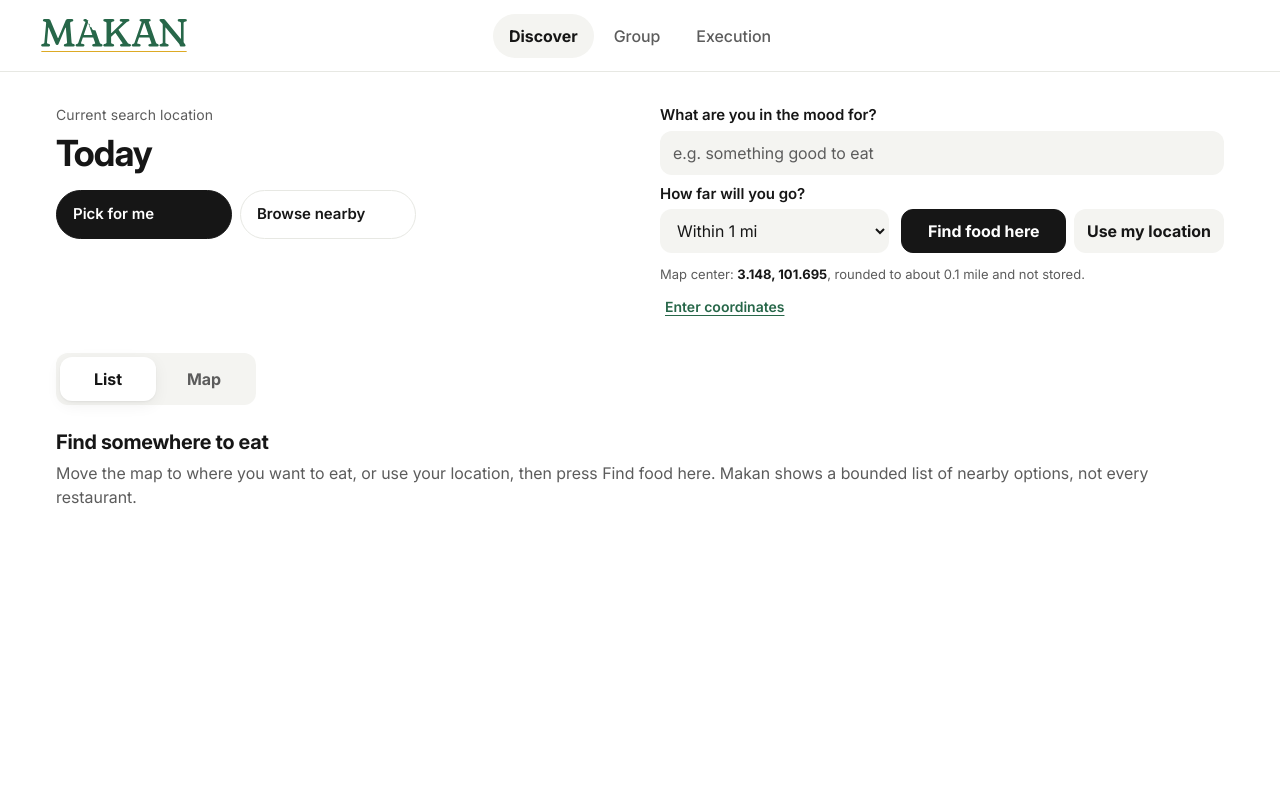
Test case: Discover › marks a changed radius as not yet applied and applies it on the next search
Type "thai please" into the field labelled "What are you in the mood for?".
click(942, 152); type("thai please")  # box [660,130,1224,174]
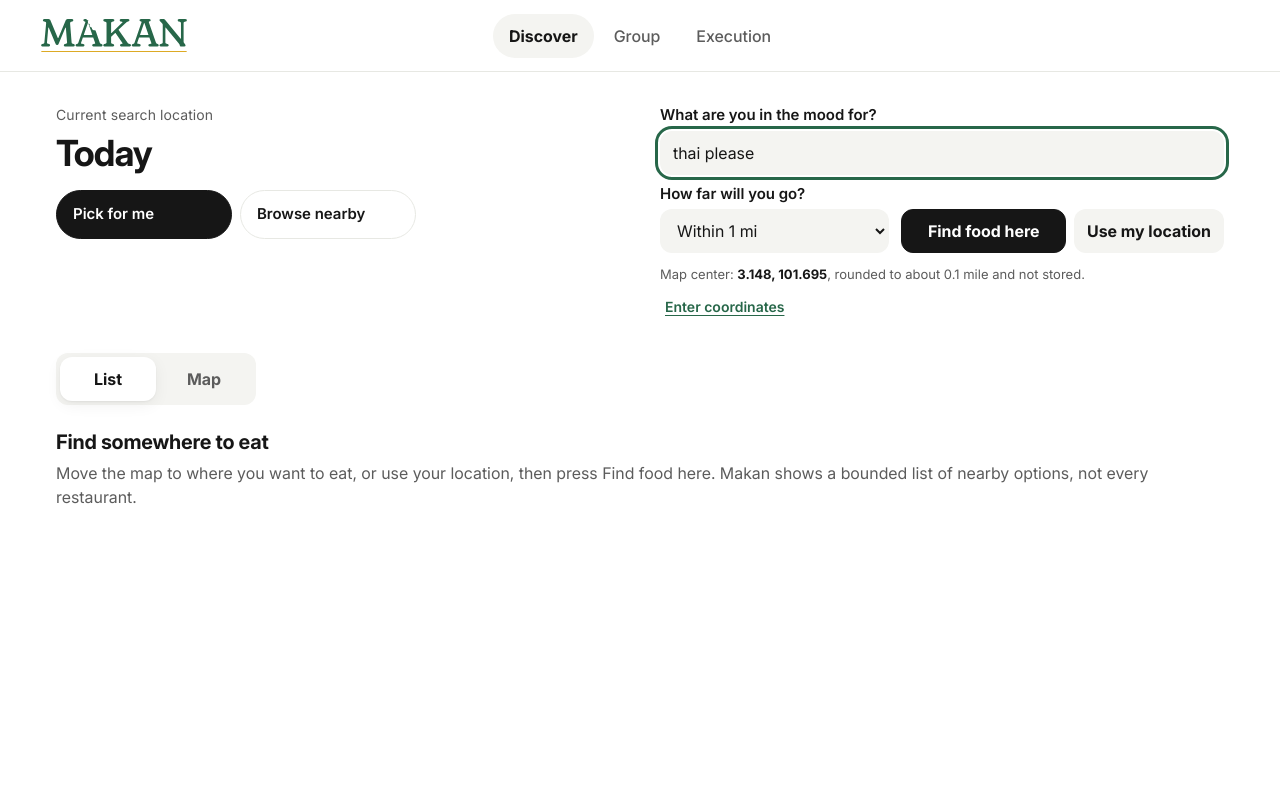
Click the button "Find food here".
click(984, 231)  # box [901,209,1066,253]
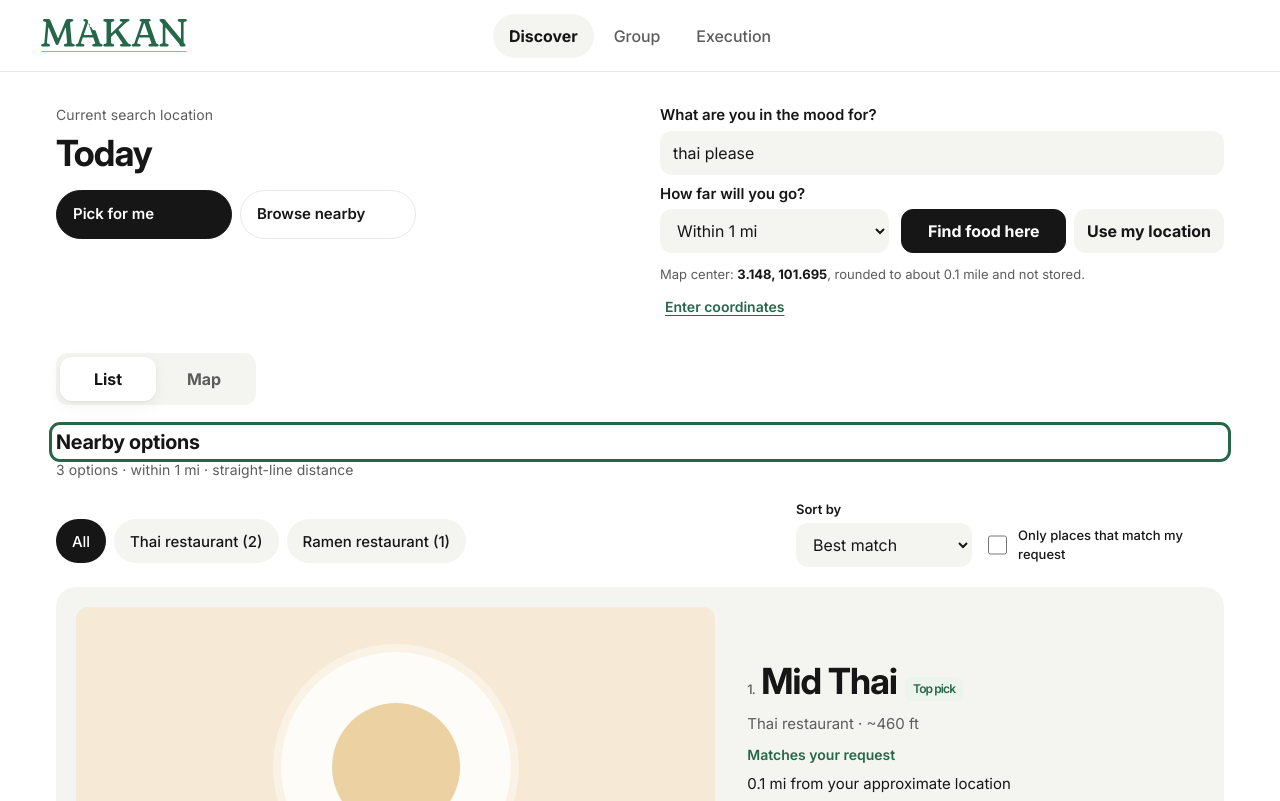
Expected: the heading "Nearby options" is shown, [56,430,200,454]
Select "Within 0.5 mi" in the dropdown labelled "How far will you go?" at [775, 231], box [660,209,889,253]
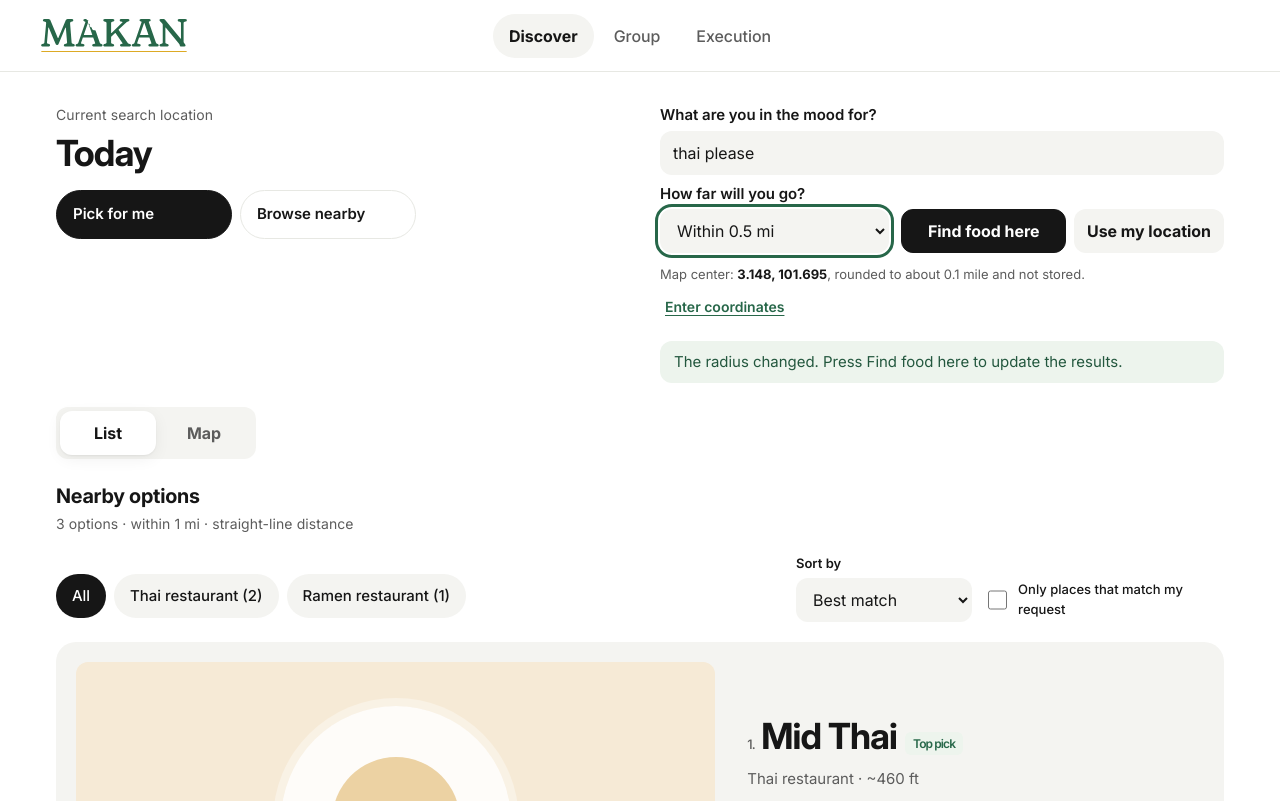
Result: the text "The radius changed. Press Find food here to update the results." is shown at [660,340,1224,383]
Click the button "Find food here".
click(984, 231)  # box [901,209,1066,253]
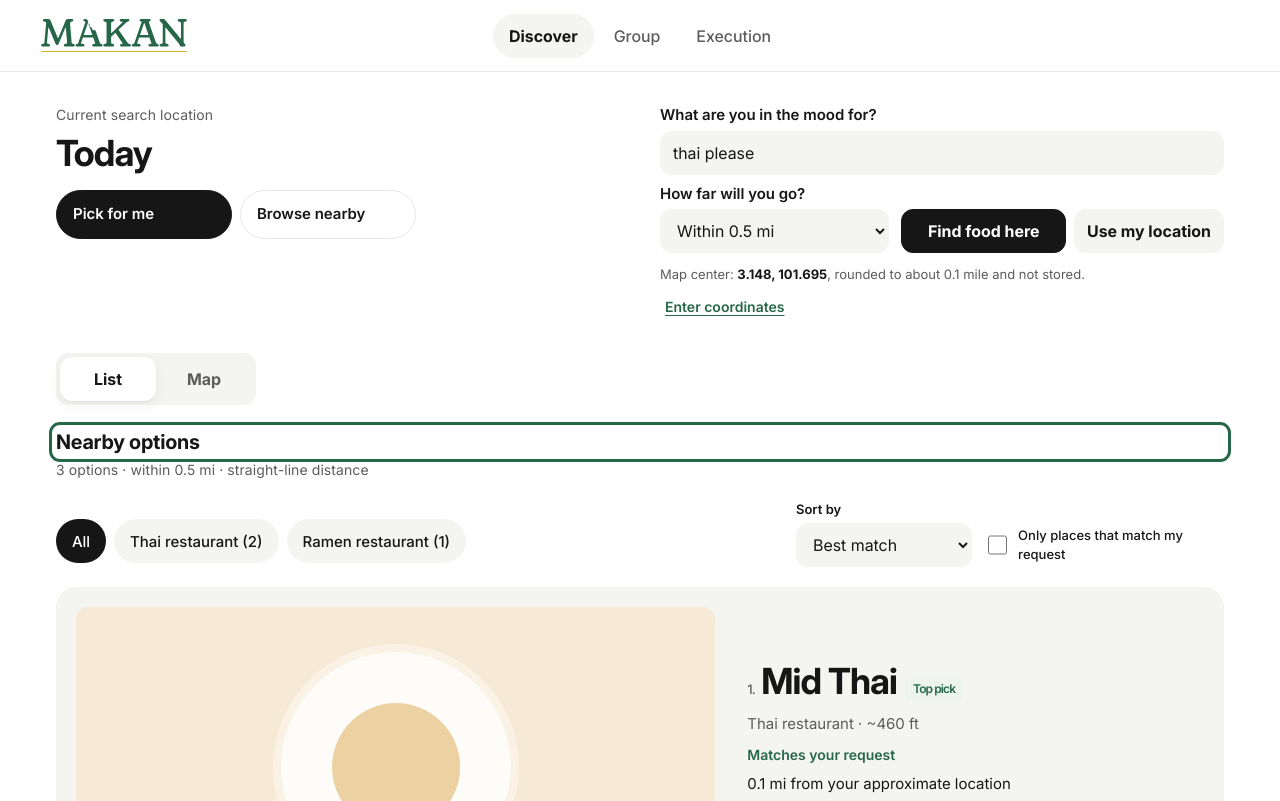
Result: the text "The radius changed" is gone
